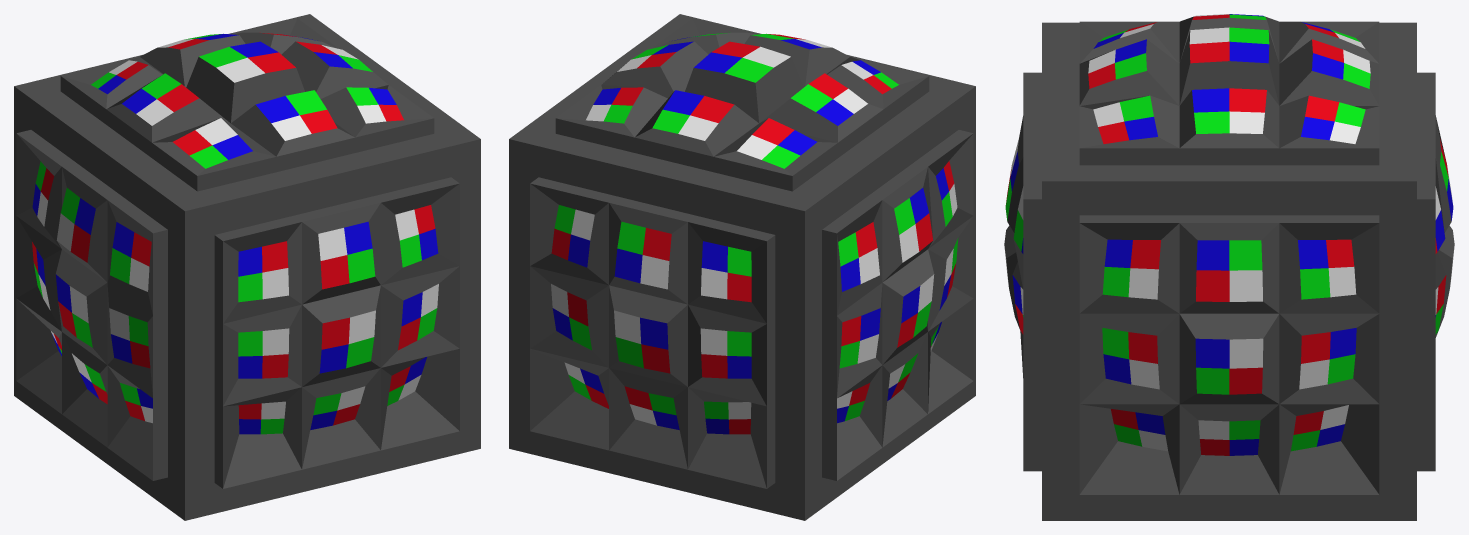
File: colorbox.glb
3 renders of one model, left to right at view 1: azimuth 30°, elevation 25°; view 2: azimuth 150°, elevation 25°; view 3: azimuth 270°, elevation 25°, orthographic. The views are drawn at different scales.
Parts seen in each view (by area): view 1: Colorbox; view 2: Colorbox; view 3: Colorbox.
Part boxes in pixels (x1,y1,x2,y2): Colorbox: (14,14,480,520); Colorbox: (509,14,975,520); Colorbox: (1004,14,1454,520).
Size of what is drawn, in the model's own units: 2.4 by 2.35 by 2.4.
